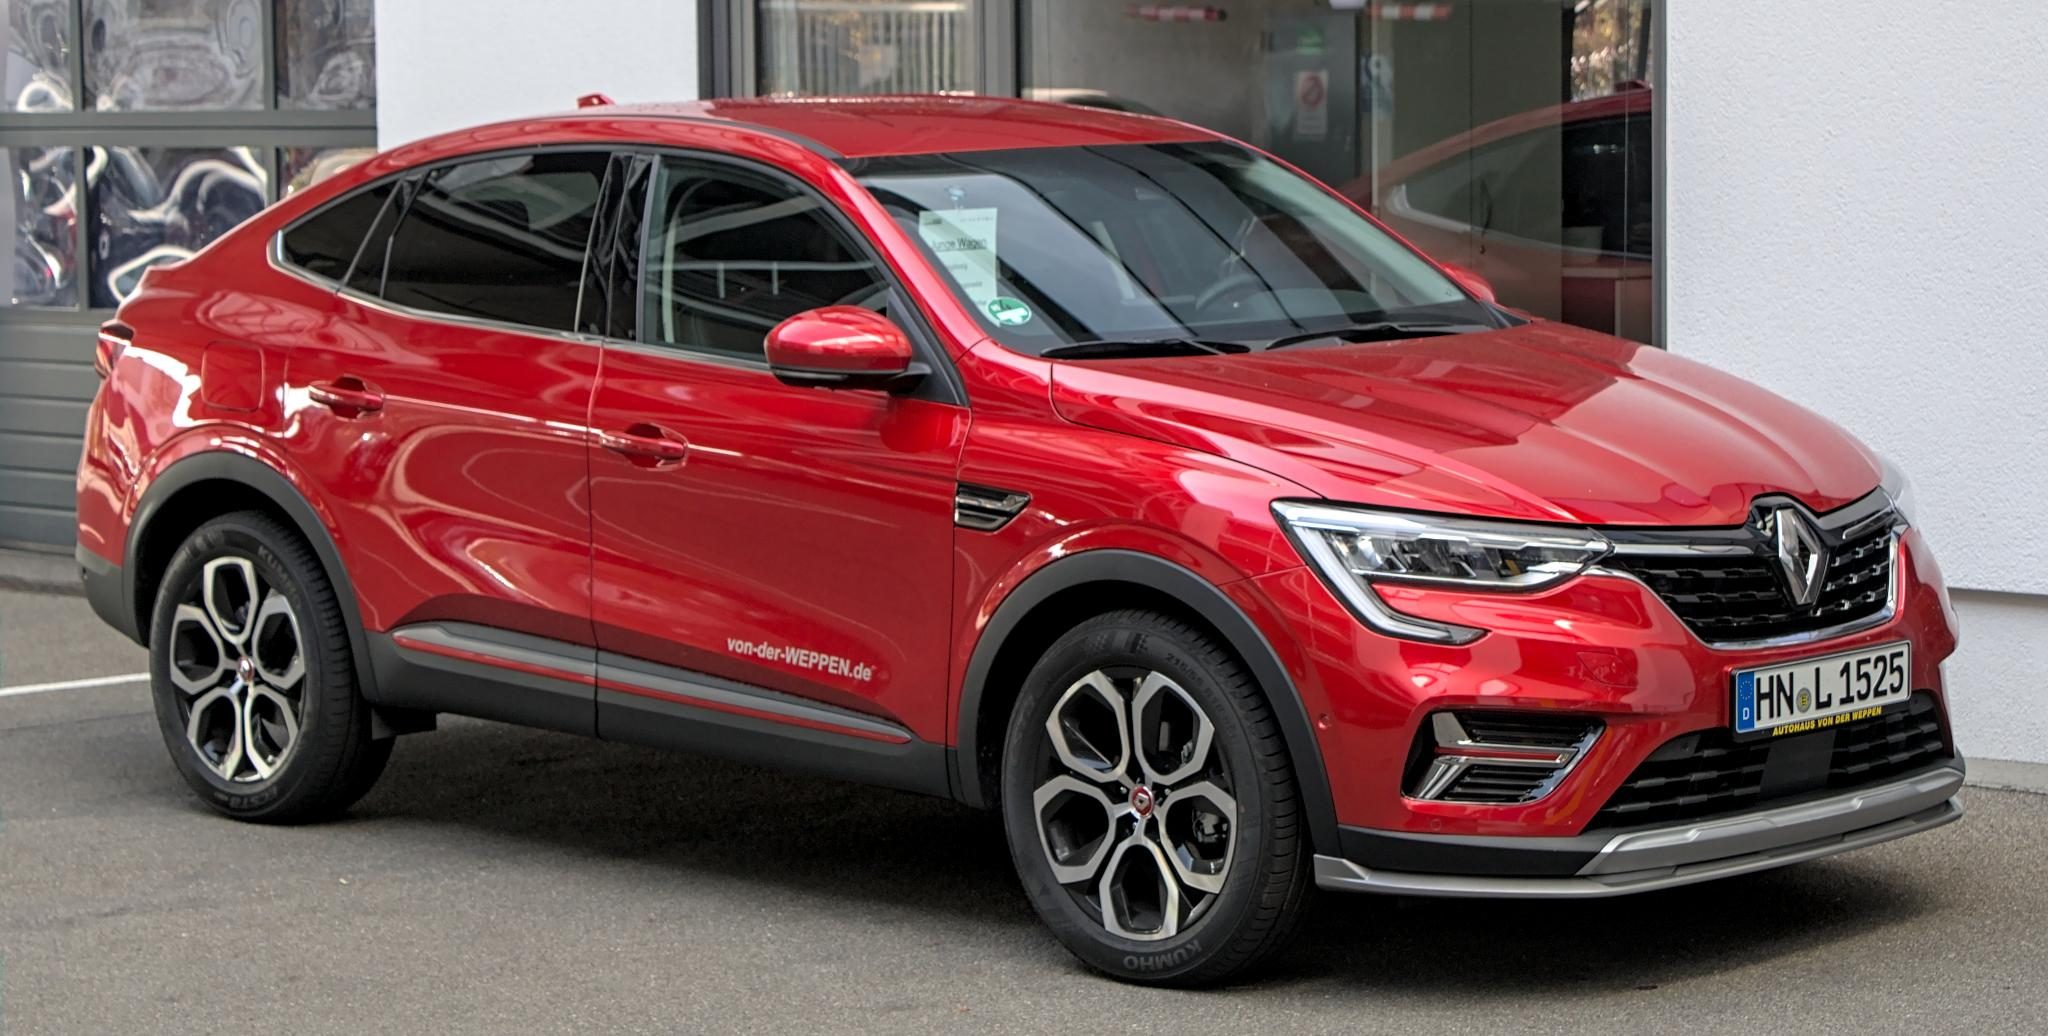Renault: (1765, 499, 1837, 618)
